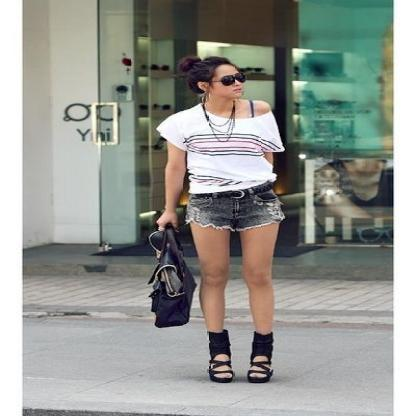bag: (138, 236, 200, 327)
shirt: (156, 108, 284, 193)
shoe: (207, 330, 272, 367)
shorts: (165, 193, 282, 236)
sunglass: (219, 64, 250, 85)
